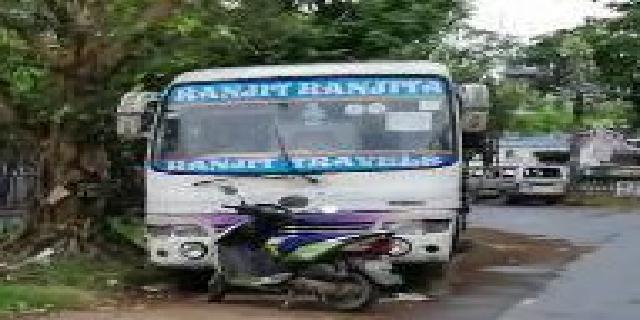Bus: (120, 68, 475, 307)
Motorbike: (203, 186, 401, 308)
